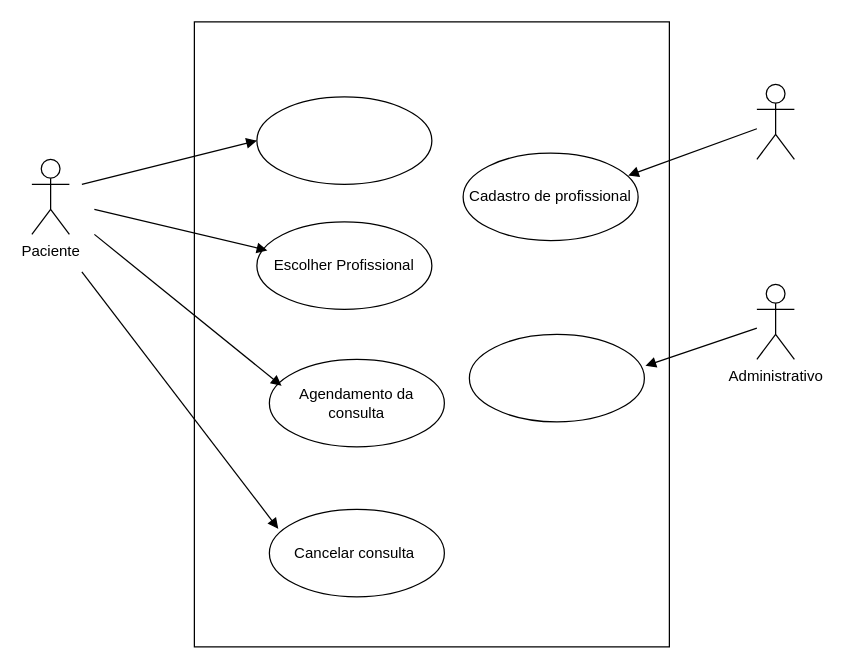
The diagram is 863 pixels wide and 669 high, and some of its shapes have lost their labels. Here are the shapes that lost their labels. From the top down, the centre of each, then its label:
At [344,140]: "Cadastro do cliente".
At [775,121]: "Profissional/médico".
At [556,377]: "Exclusão de cadastros".
